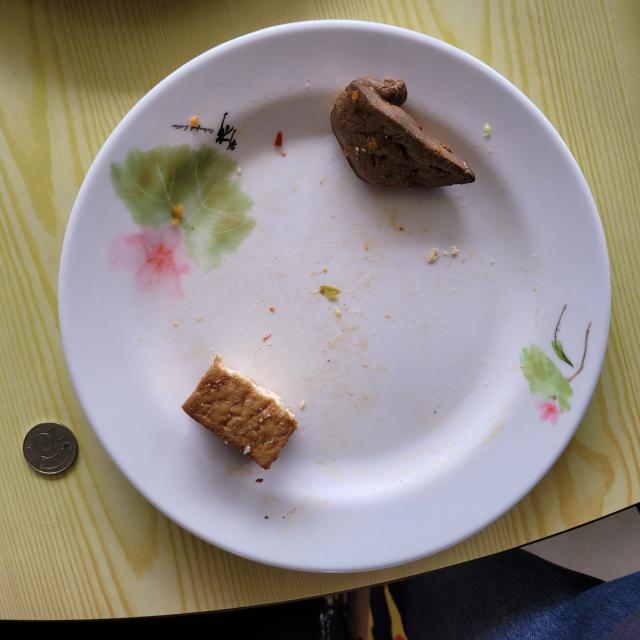coin: (24, 421, 78, 474)
egg tofu: (182, 355, 298, 470)
pig liver: (330, 78, 475, 189)
